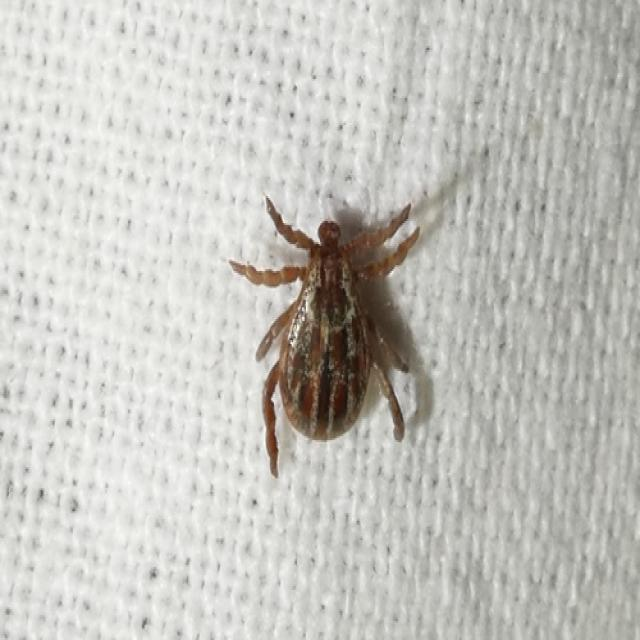Dermacentor Reticulatus-M: (229, 198, 420, 477)
